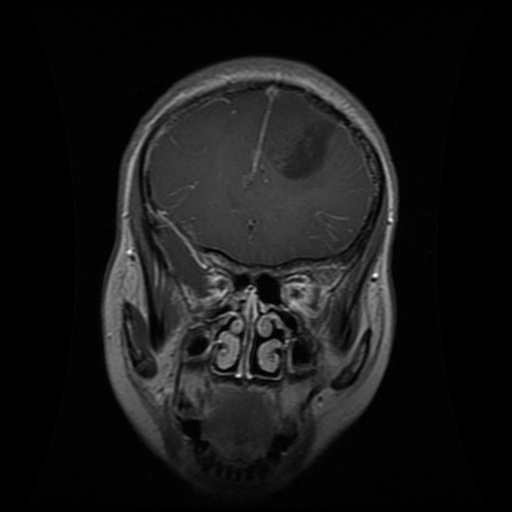glioma: (278, 115, 338, 181)
